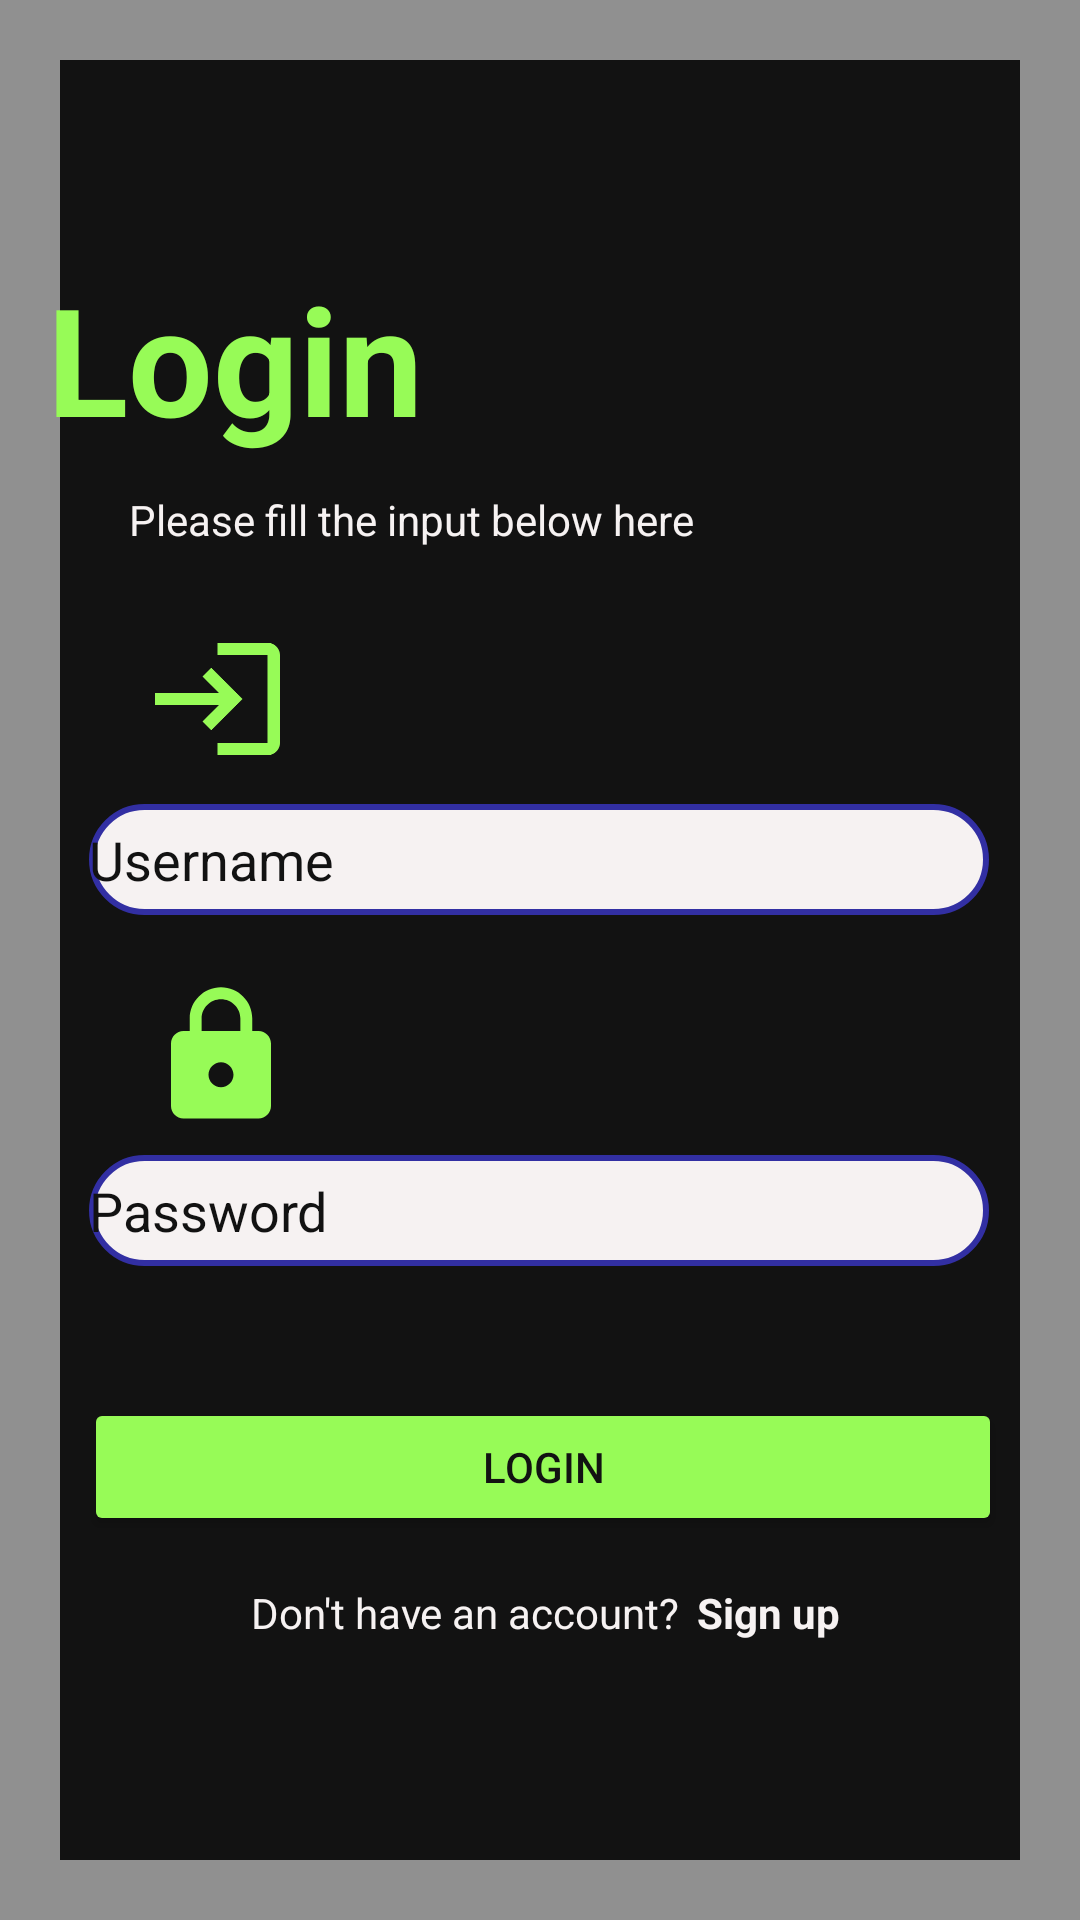

Icon bounding boxes for this 1080w x 1920h phone screenshot, format [x1,y1,x2,y2]:
lock: [171,987,271,1119]
login: [155,643,280,755]
